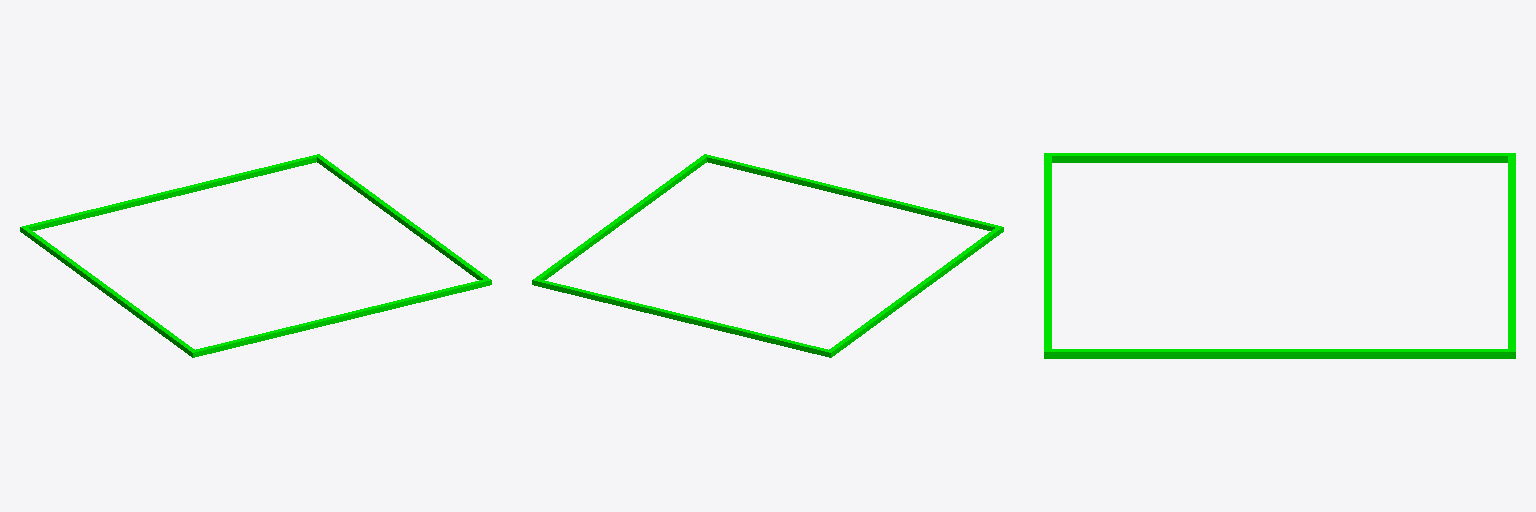
robot.urdf — rectangleexample:
<?xml version="1.0" ?>
<robot name="rectangleexample">
  <material name="green">
    <color rgba="0 1.0 0 1.0"/>
  </material>
  <link name="base_link">
    <inertial>
      <mass value="0"/>
      <inertia ixx="0" ixy="0" ixz="0" iyy="0" iyz="0" izz="0"/>
    </inertial>
  </link>
  <link name="top_border">
    <visual>
      <geometry>
        <box size="0.06 0.001 0.001"/>
      </geometry>
      <material name="green"/>
    </visual>
    <inertial>
      <mass value="0.0"/>
      <inertia ixx="0.0" ixy="0.0" ixz="0.0" iyy="0.0" iyz="0.0" izz="0.0"/>
    </inertial>
  </link>
  <link name="bottom_border">
    <visual>
      <geometry>
        <box size="0.06 0.001 0.001"/>
      </geometry>
      <material name="green"/>
    </visual>
    <inertial>
      <mass value="0.0"/>
      <inertia ixx="0.0" ixy="0.0" ixz="0.0" iyy="0.0" iyz="0.0" izz="0.0"/>
    </inertial>
  </link>
  <link name="left_border">
    <visual>
      <geometry>
        <box size="0.001 0.062 0.001"/>
      </geometry>
      <material name="green"/>
    </visual>
    <inertial>
      <mass value="0.0"/>
      <inertia ixx="0.0" ixy="0.0" ixz="0.0" iyy="0.0" iyz="0.0" izz="0.0"/>
    </inertial>
  </link>
  <link name="right_border">
    <visual>
      <geometry>
        <box size="0.001 0.062 0.001"/>
      </geometry>
      <material name="green"/>
    </visual>
    <inertial>
      <mass value="0.0"/>
      <inertia ixx="0.0" ixy="0.0" ixz="0.0" iyy="0.0" iyz="0.0" izz="0.0"/>
    </inertial>
  </link>
  <joint name="top_border_joint" type="fixed">
    <parent link="base_link"/>
    <child link="top_border"/>
    <origin xyz="0 0.0305 0" rpy="0 0 0"/>
  </joint>
  <joint name="bottom_border_joint" type="fixed">
    <parent link="base_link"/>
    <child link="bottom_border"/>
    <origin xyz="0 -0.0305 0" rpy="0 0 0"/>
  </joint>
  <joint name="left_border_joint" type="fixed">
    <parent link="base_link"/>
    <child link="left_border"/>
    <origin xyz="-0.0305 0 0" rpy="0 0 0"/>
  </joint>
  <joint name="right_border_joint" type="fixed">
    <parent link="base_link"/>
    <child link="right_border"/>
    <origin xyz="0.0305 0 0" rpy="0 0 0"/>
  </joint>
</robot>

--- Render facts (derived) ---
The picture shows the robot from 3 angles, left to right: view 1: azimuth 30°, elevation 25°; view 2: azimuth 150°, elevation 25°; view 3: azimuth 270°, elevation 25°; orthographic projection.
Robot: rectangleexample — 5 links, 4 joints (4 fixed); root link base_link; default pose: every joint at zero.
Links seen in each view (by area): view 1: bottom_border, top_border, left_border, right_border; view 2: top_border, bottom_border, left_border, right_border; view 3: right_border, left_border, top_border, bottom_border.
Link boxes in pixels (<box>): bottom_border: <box>196,279,486,356</box>; top_border: <box>26,155,316,230</box>; left_border: <box>20,226,197,357</box>; right_border: <box>315,154,491,285</box>; top_border: <box>537,279,827,356</box>; bottom_border: <box>707,155,997,230</box>; left_border: <box>826,226,1003,357</box>; right_border: <box>532,154,708,285</box>; right_border: <box>1044,349,1515,358</box>; left_border: <box>1044,153,1515,162</box>; top_border: <box>1508,156,1515,348</box>; bottom_border: <box>1044,156,1051,348</box>.
Bounding box of the posed robot: 0.062 × 0.062 × 0.001 m (x, y, z).
Geometry: primitives only (box / cylinder / sphere), no mesh files.